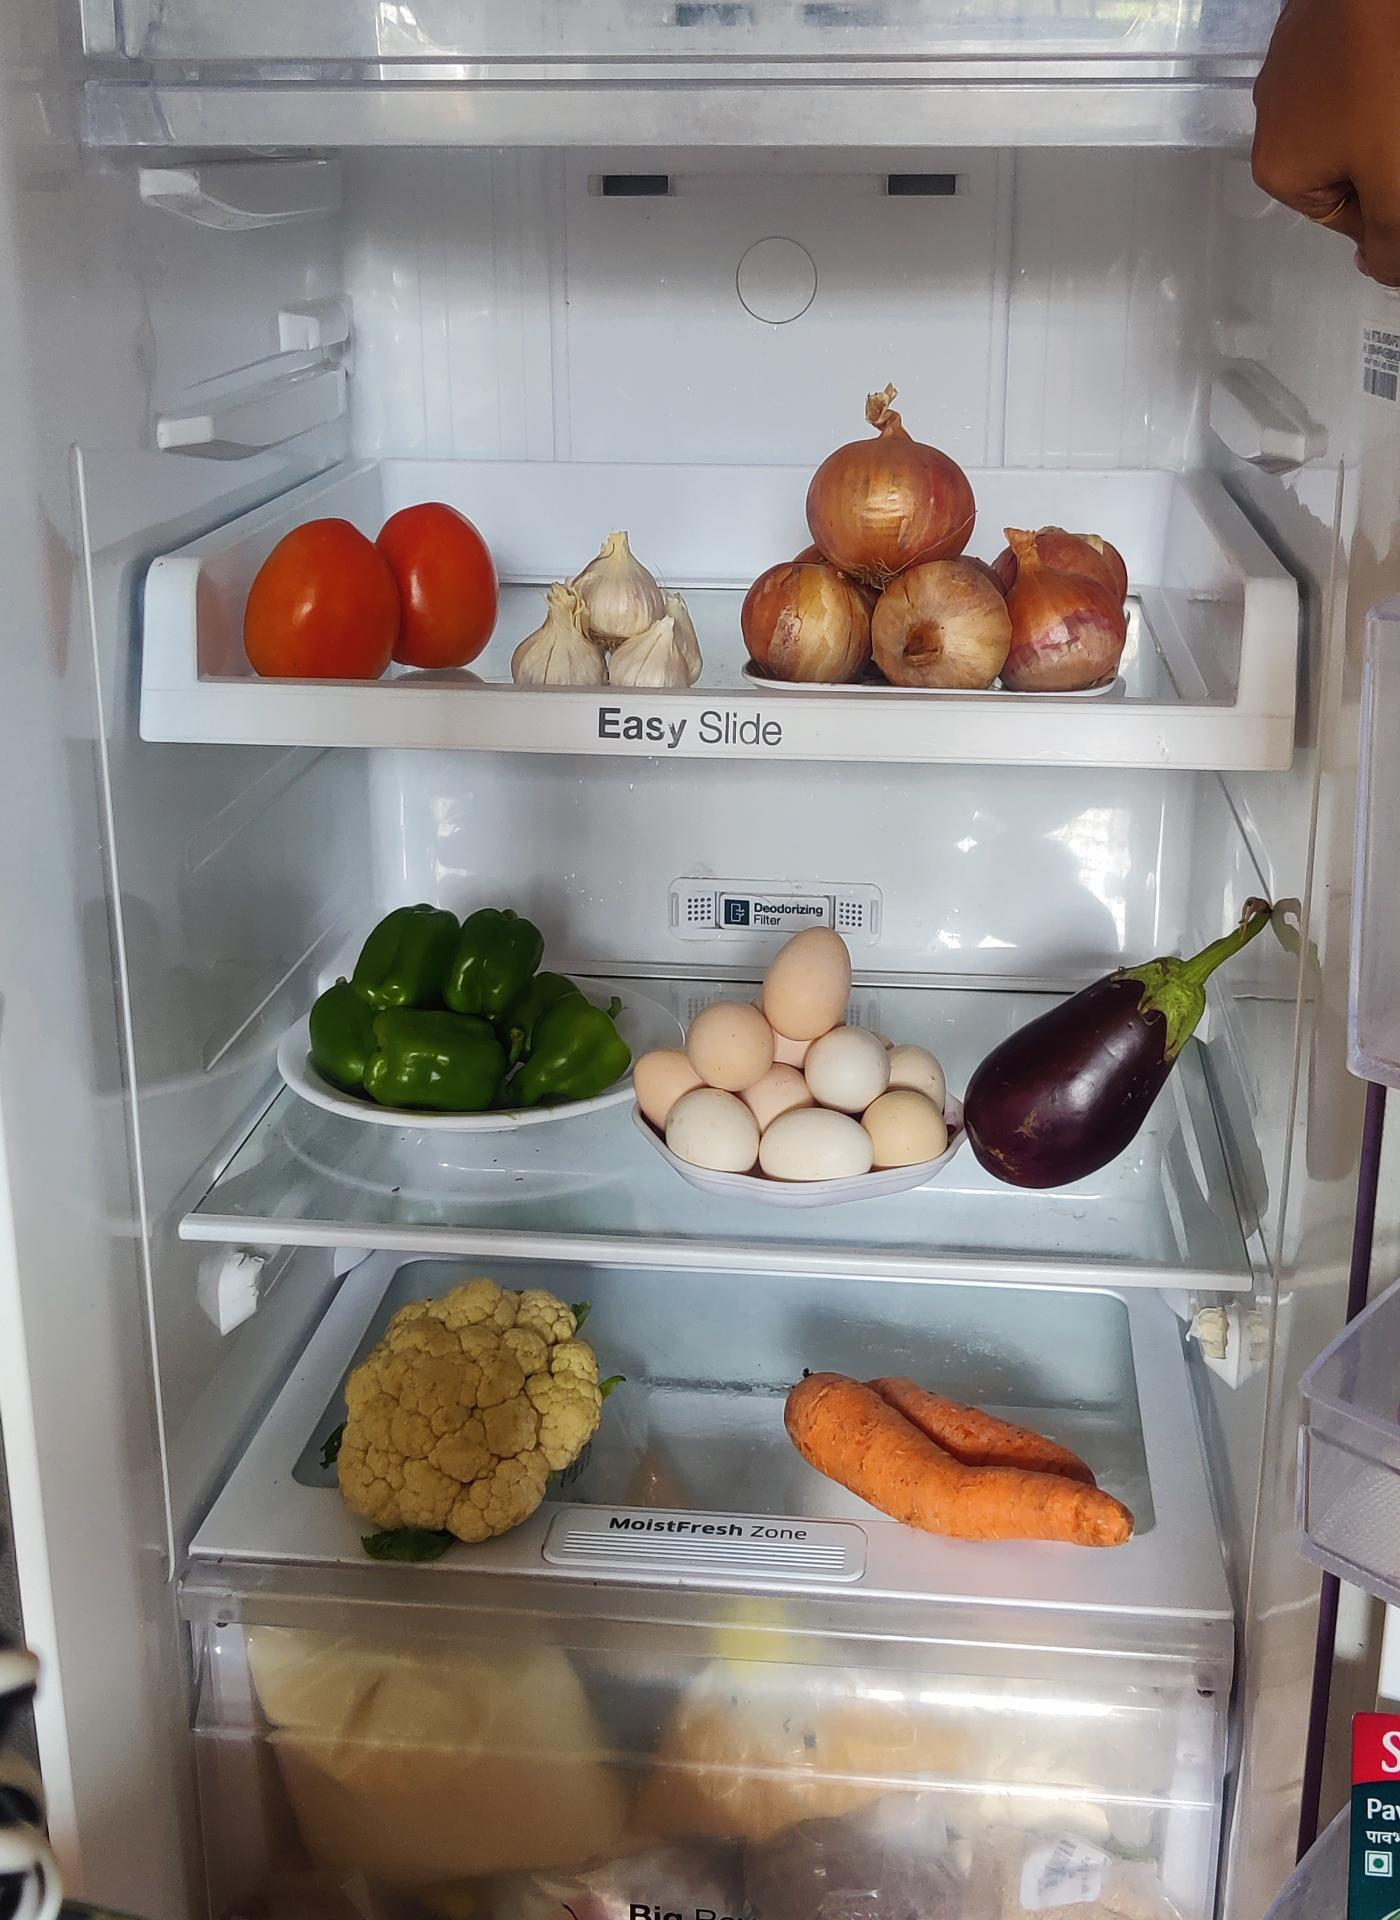brinjal: (963, 909, 1266, 1199)
capsicum: (315, 894, 631, 1112)
carrots: (790, 1365, 1126, 1540)
cauliflower: (343, 1283, 599, 1556)
egg: (641, 929, 954, 1182)
garlic: (510, 525, 696, 678)
onion: (740, 414, 1141, 686)
tomato: (245, 496, 496, 689)
